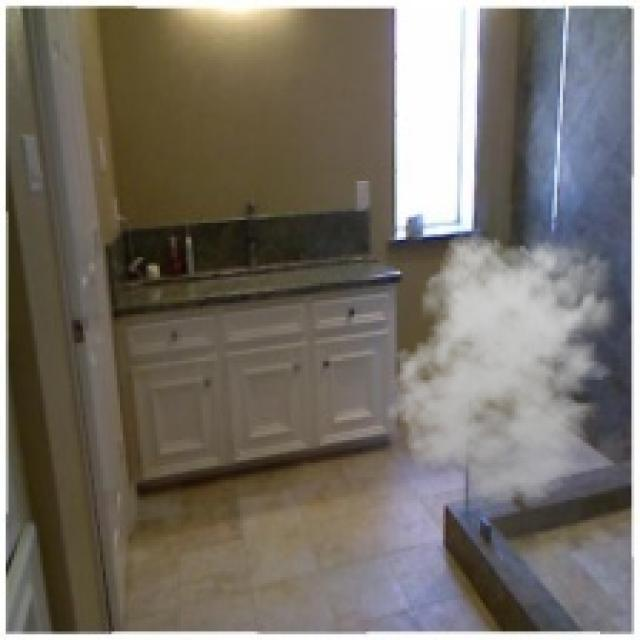Smoke: (386, 223, 628, 506)
